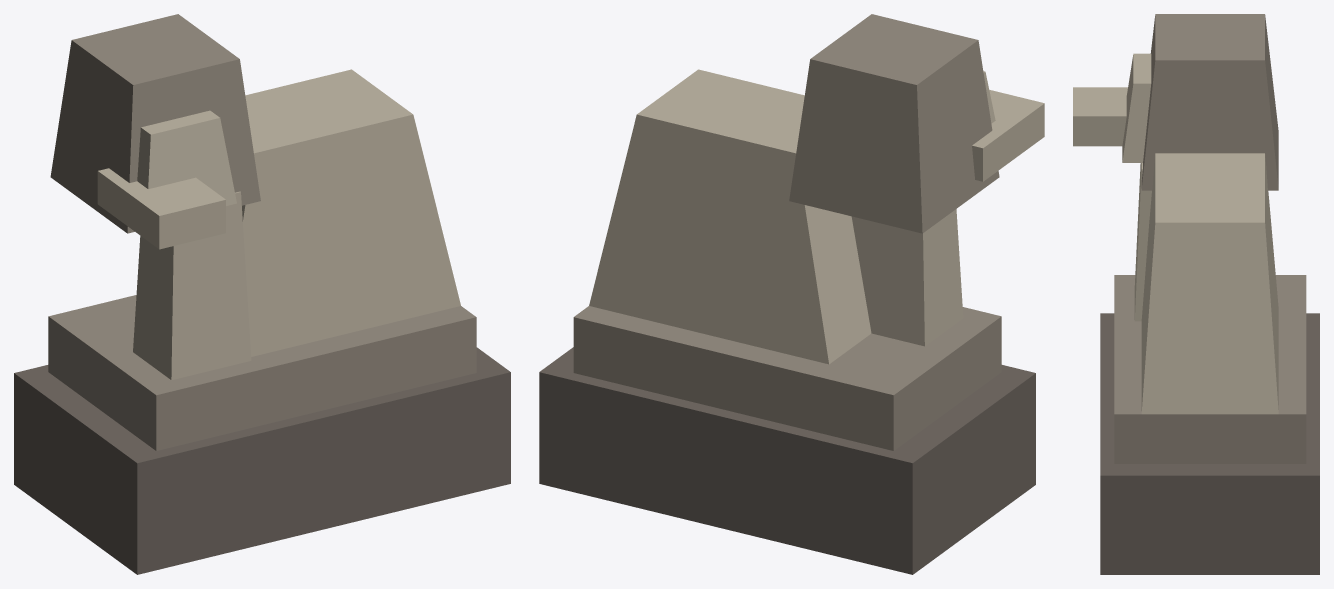
File: statue_lion.fbx
The picture shows the model from 3 angles, left to right: view 1: azimuth 30°, elevation 25°; view 2: azimuth 150°, elevation 25°; view 3: azimuth 270°, elevation 25°; orthographic projection. The views are drawn at different scales.
Visible parts, largest first — view 1: statue_lion; view 2: statue_lion; view 3: statue_lion.
Boxes of the visible parts, x1=… form: statue_lion: x1=14, y1=14, x2=510, y2=574; statue_lion: x1=539, y1=14, x2=1044, y2=574; statue_lion: x1=1073, y1=14, x2=1319, y2=574.
Bounding box in the file's own units: 1.4 × 1.65 × 0.9.
